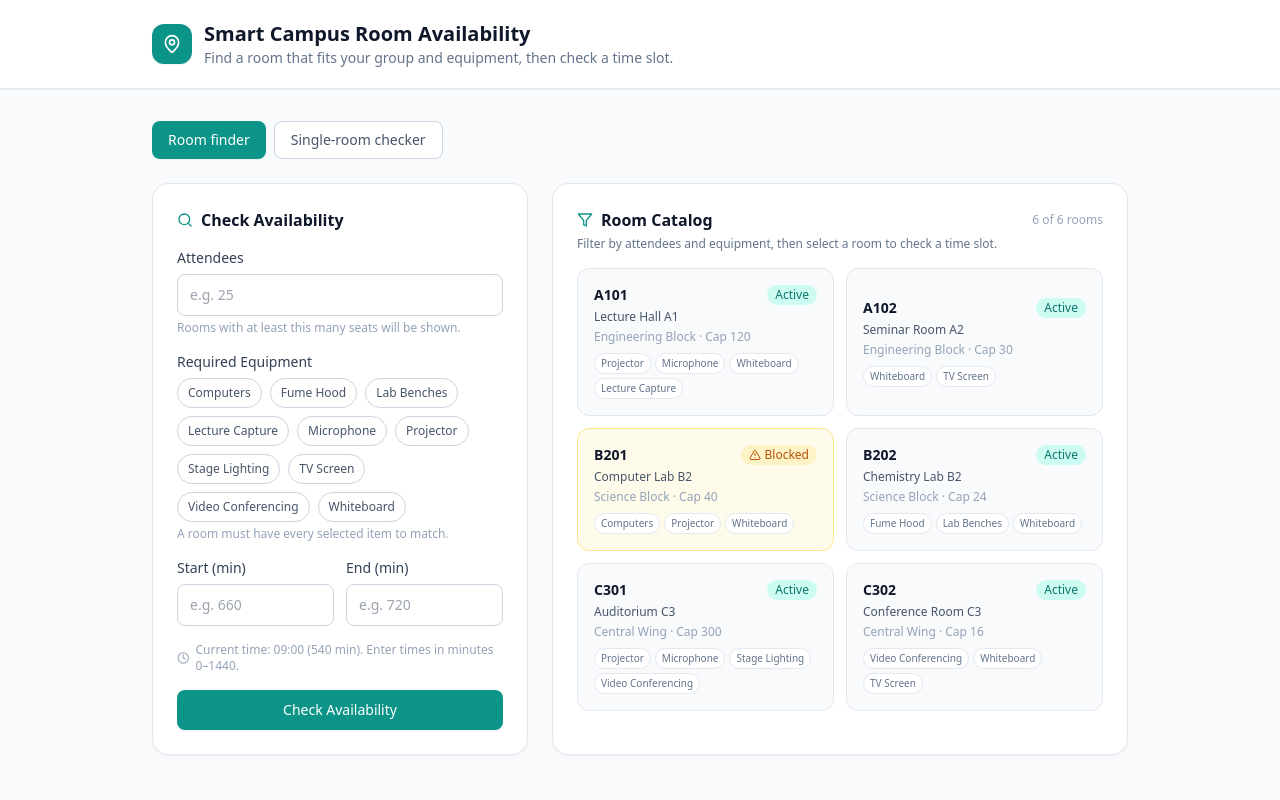
Test: App room catalog and availability UI › D5: no matching rooms shows the empty-state message
Click the button "Stage Lighting" at (229, 469), box [177,454,280,484]
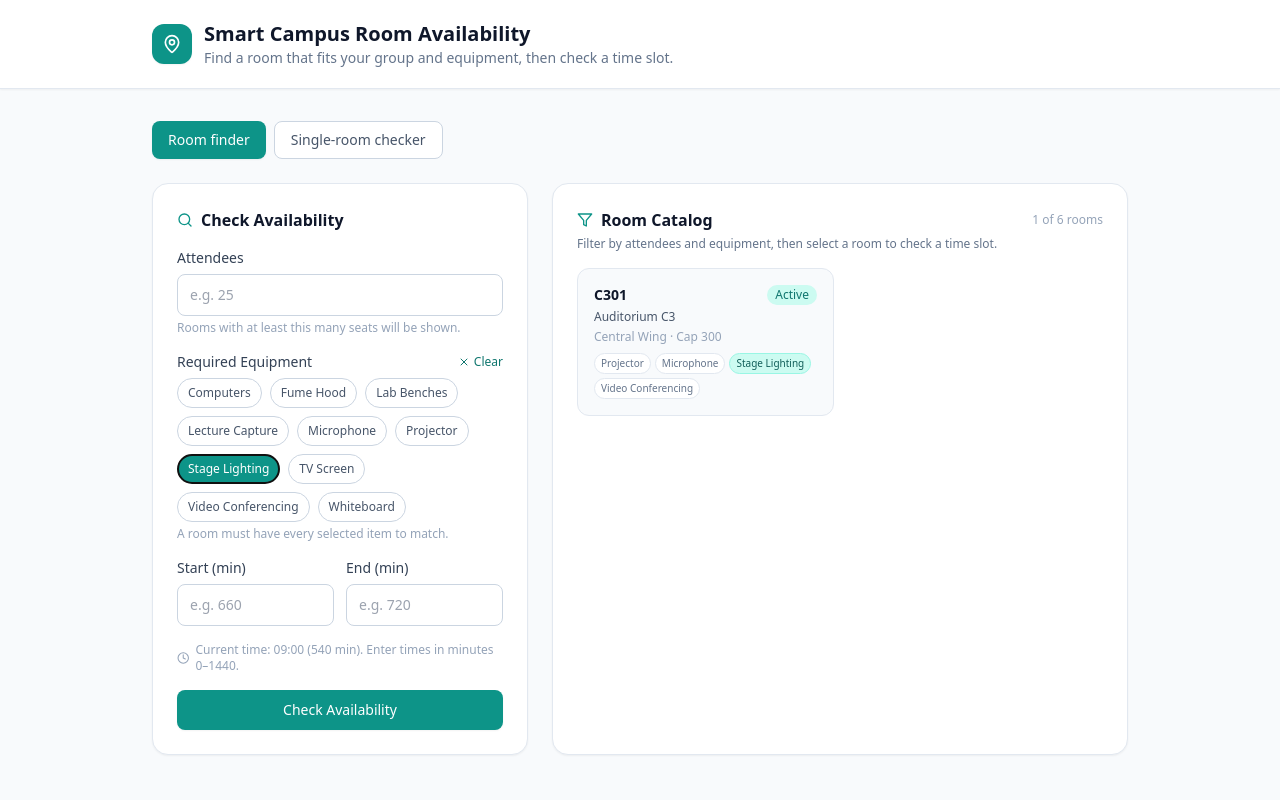
Click the button "Fume Hood" at (313, 393), box [270,378,357,408]
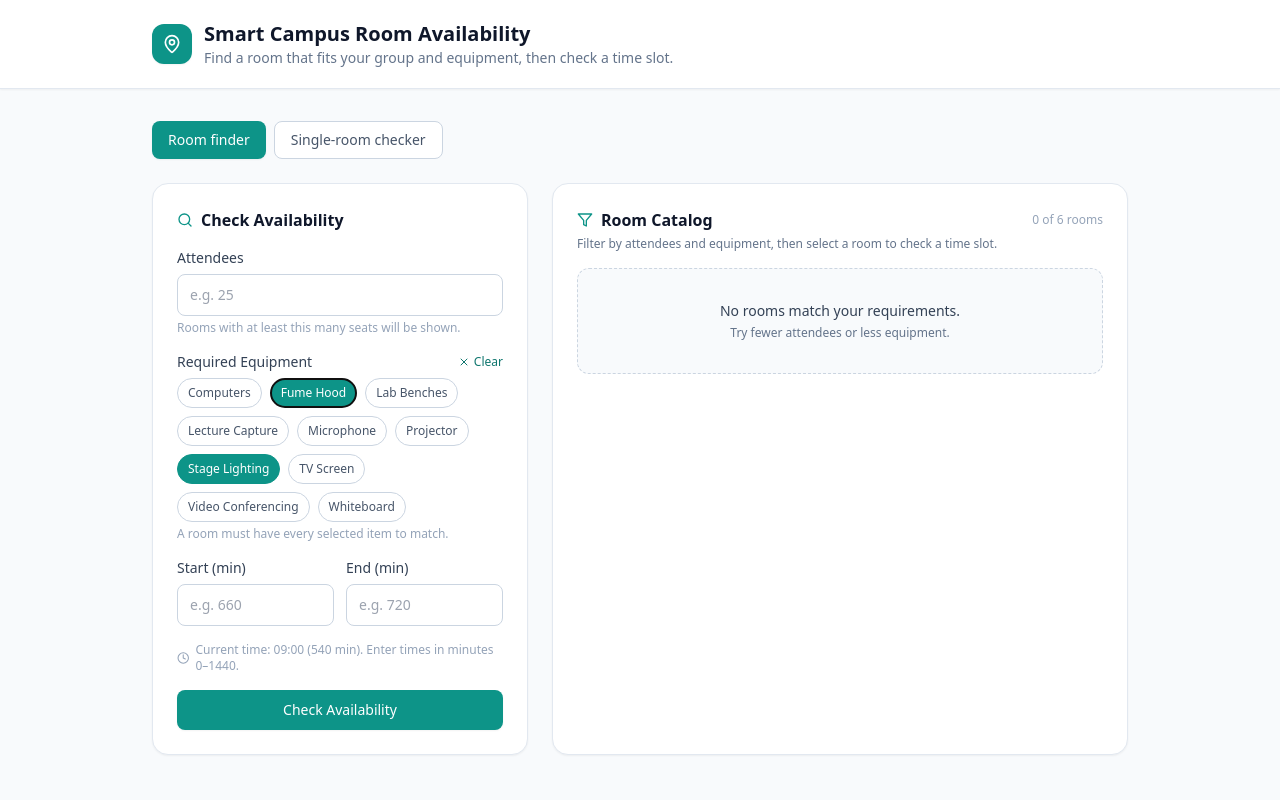
Expected: the text "No rooms match your requirements." is shown, [720,301,960,320]
